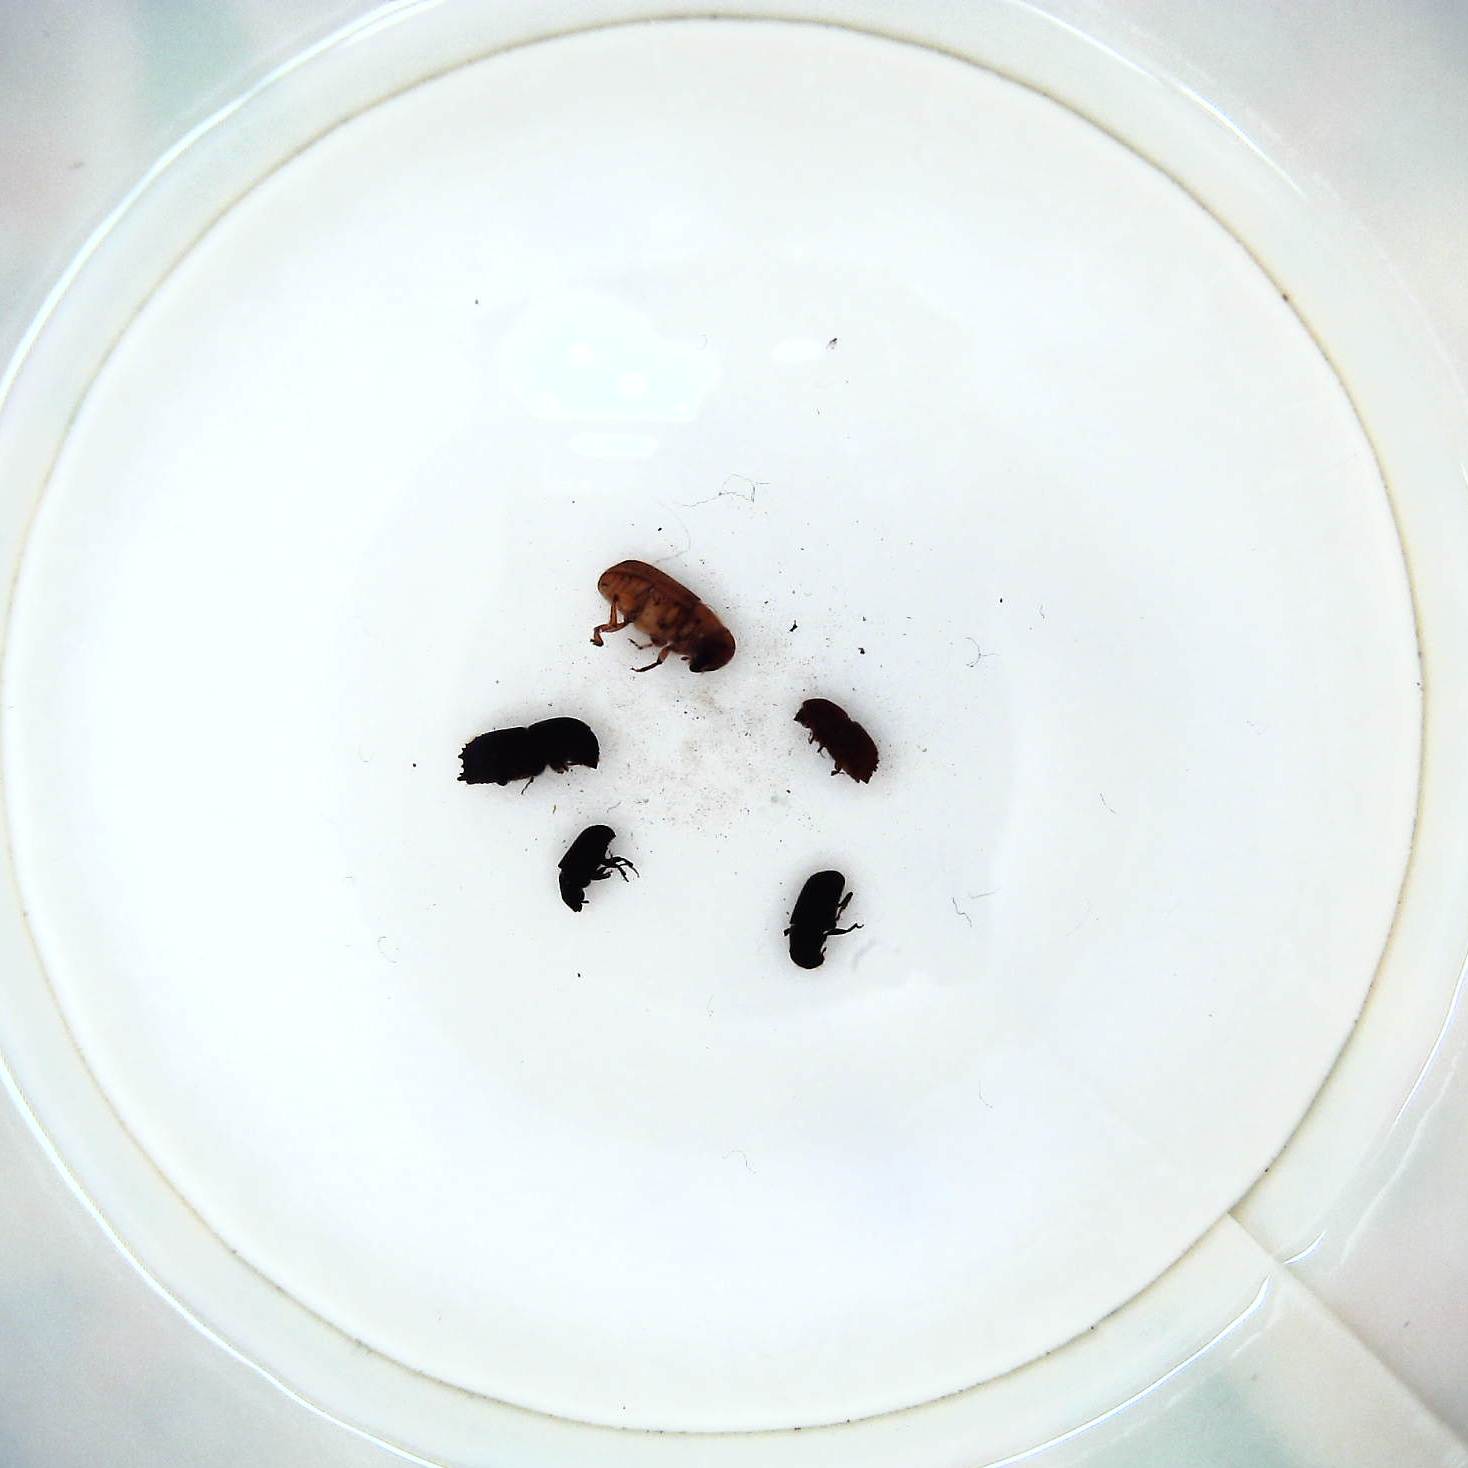Boerner: (453, 714, 608, 792)
Leconte: (587, 557, 734, 683)
armandi: (785, 868, 864, 973)
coleoptera: (555, 819, 636, 917)
linnaeus: (790, 692, 876, 786)
